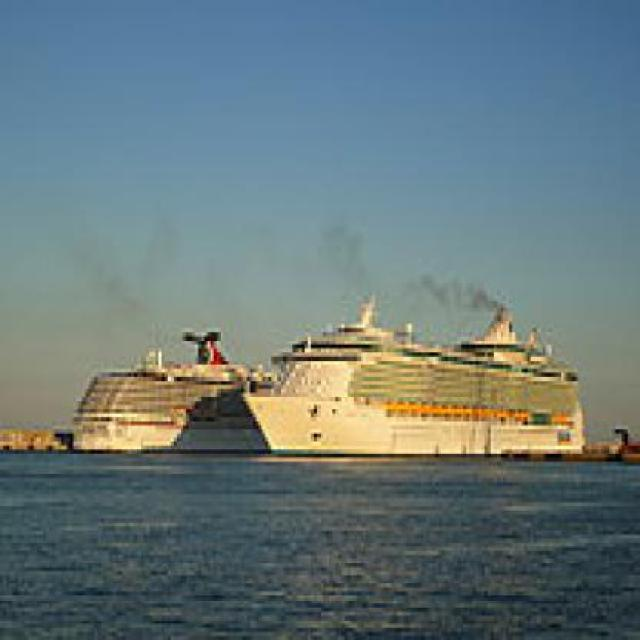cruise: (230, 284, 596, 467)
